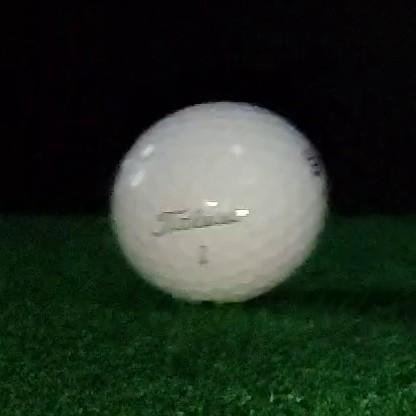golfball: (111, 103, 325, 302)
